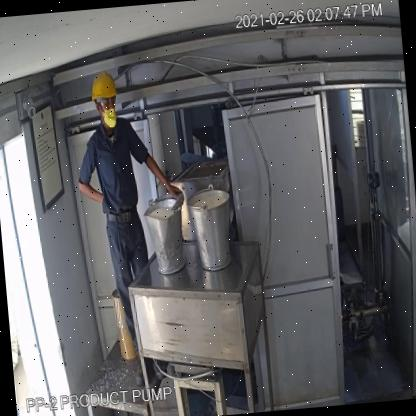capacete: (88, 66, 121, 104)
oculos: (96, 96, 119, 109)
